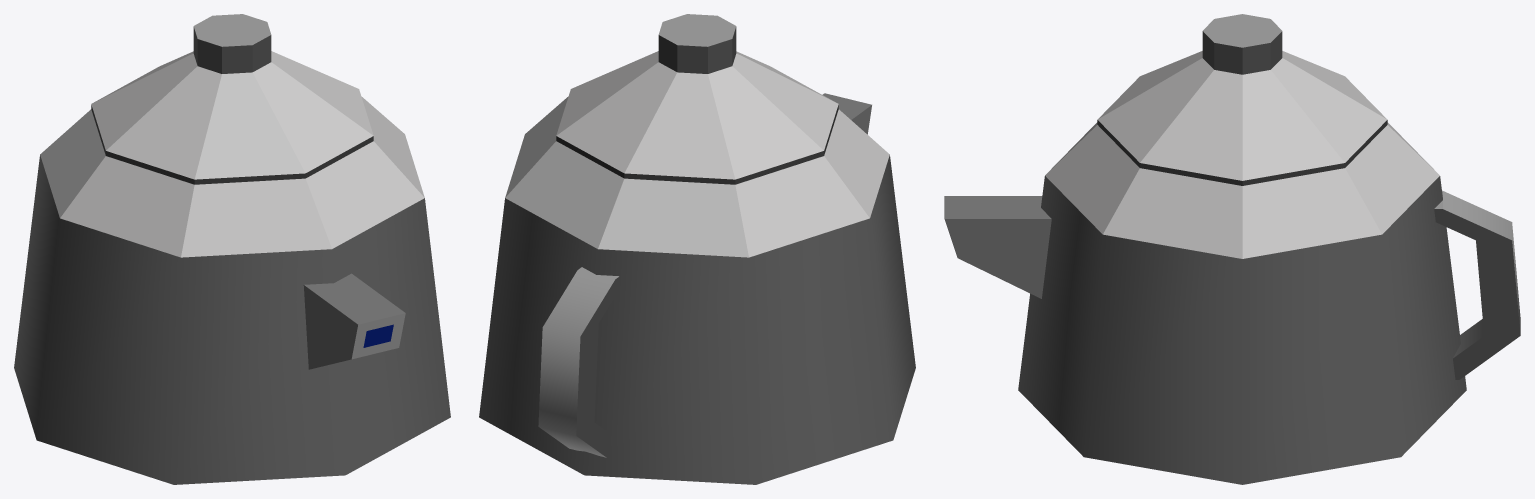
Rendered from Kettle3.fbx.
3 renders of one model, left to right at view 1: azimuth 30°, elevation 25°; view 2: azimuth 150°, elevation 25°; view 3: azimuth 270°, elevation 25°, orthographic.
Visible parts, largest first — view 1: Kettle3; view 2: Kettle3; view 3: Kettle3.
Part boxes in pixels (x1,y1,x2,y2): Kettle3: (14, 14, 450, 484); Kettle3: (479, 14, 915, 484); Kettle3: (944, 14, 1520, 484).
Bounding box in the file's own units: 25.99 × 22.96 × 33.37.
